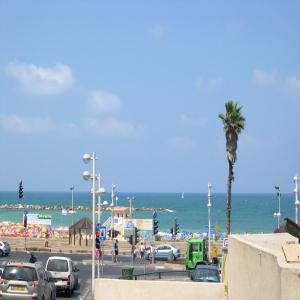Vehicle-registration-plate: (11, 286, 26, 292), (57, 280, 63, 283)
